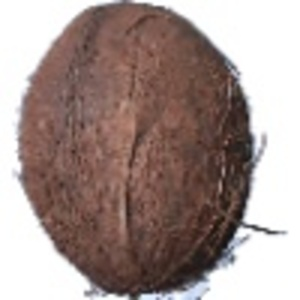coco: (15, 1, 288, 300)
